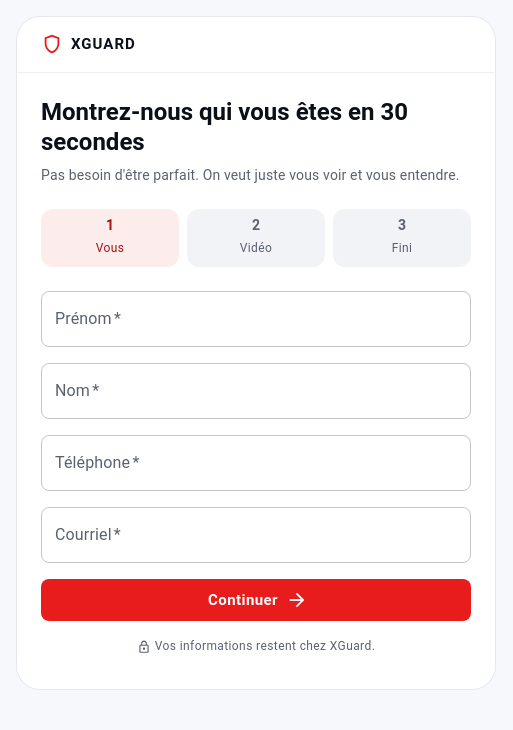
Test: OpenVideoUploadPage — lien général /video › téléphone incomplet → message, on reste sur le formulaire
In the field labelled "Prénom *": x=256, y=319 [41, 291, 471, 347], type "Karim"
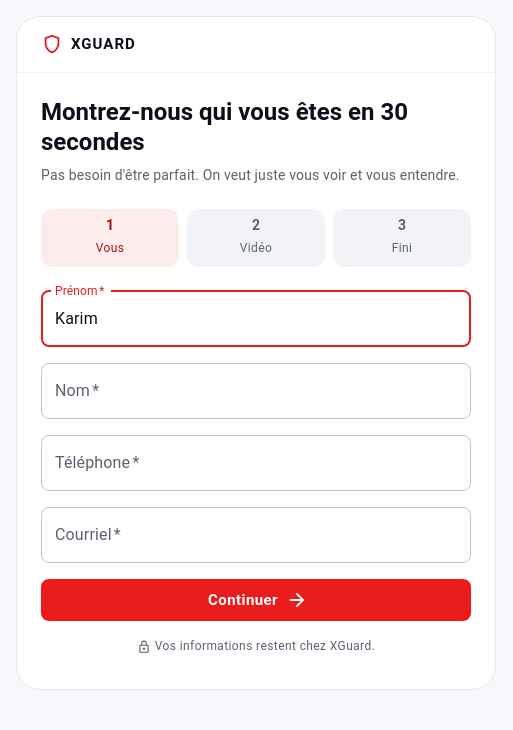
In the field labelled "Nom *": x=256, y=391 [41, 363, 471, 419], type "Benali"
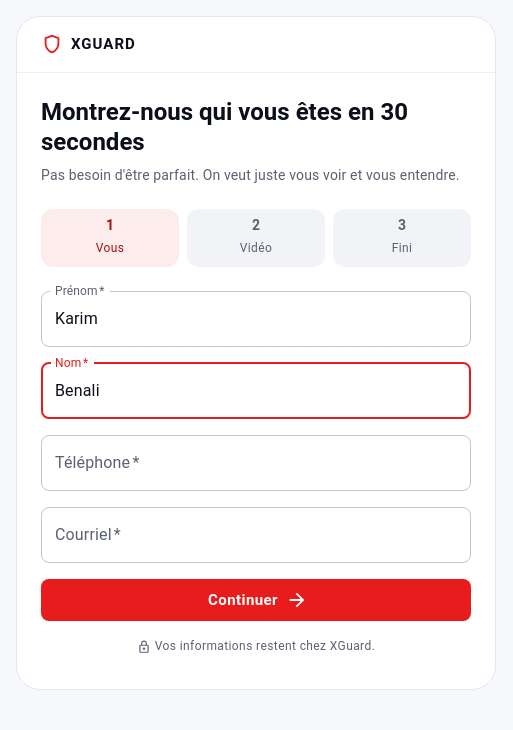
In the field labelled "Téléphone *": x=256, y=463 [41, 435, 471, 491], type "514 555"
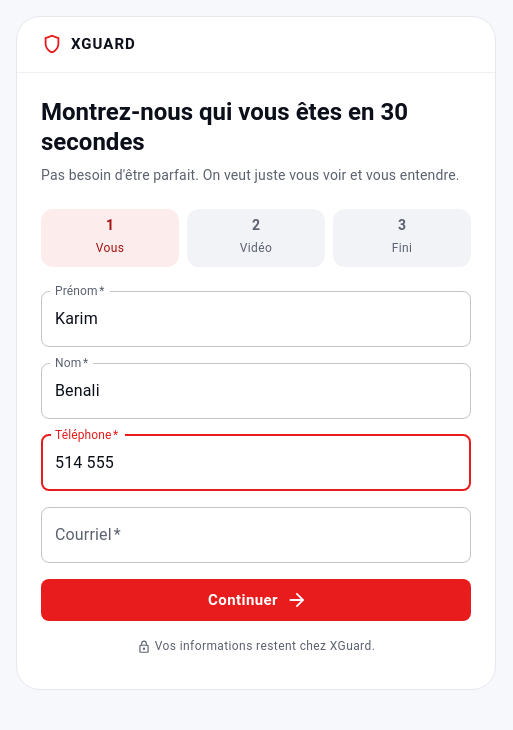
In the field labelled "Courriel *": x=256, y=535 [41, 507, 471, 563], type "karim@example.com"
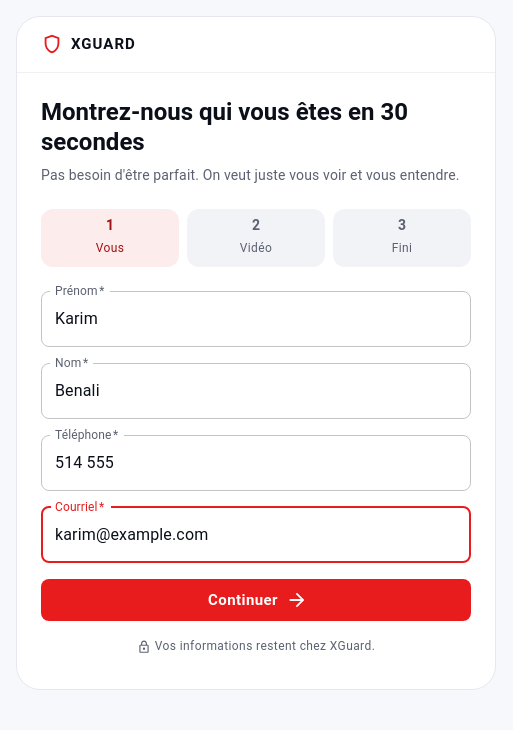
Click the button "Continuer": x=256, y=600 [41, 579, 471, 621]
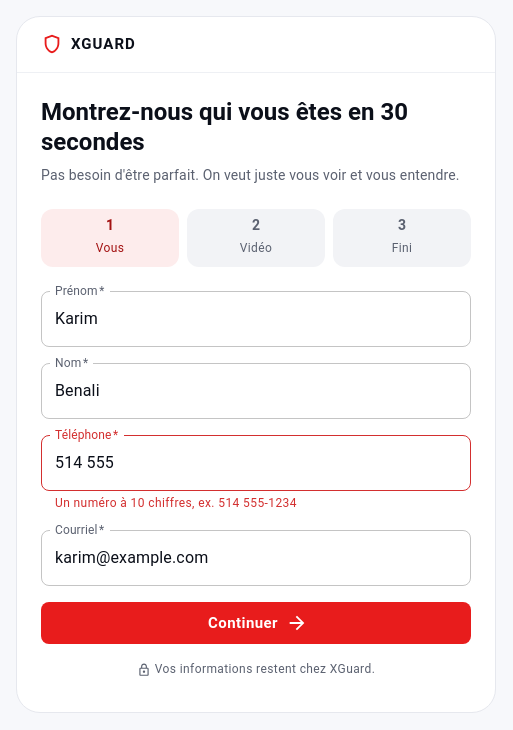
Check: the text "Un numéro à 10 chiffres, ex. 514 555-1234" is shown, box [55, 496, 297, 510]
